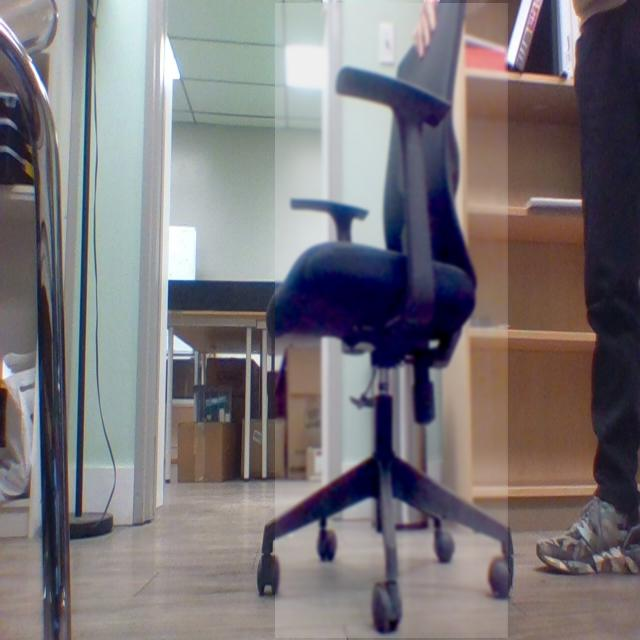black-chair: (275, 3, 509, 639)
